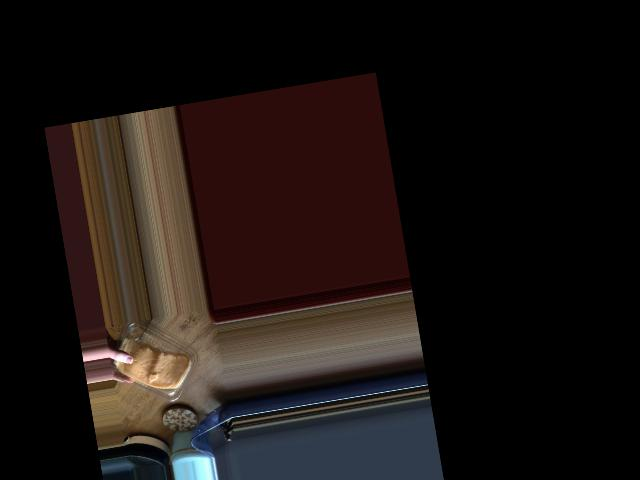cheese: (111, 312, 215, 416)
